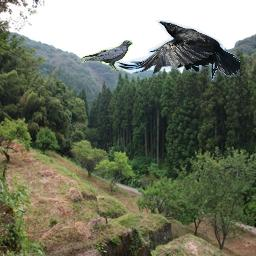Crow: (114, 20, 240, 82), (82, 40, 133, 71)
